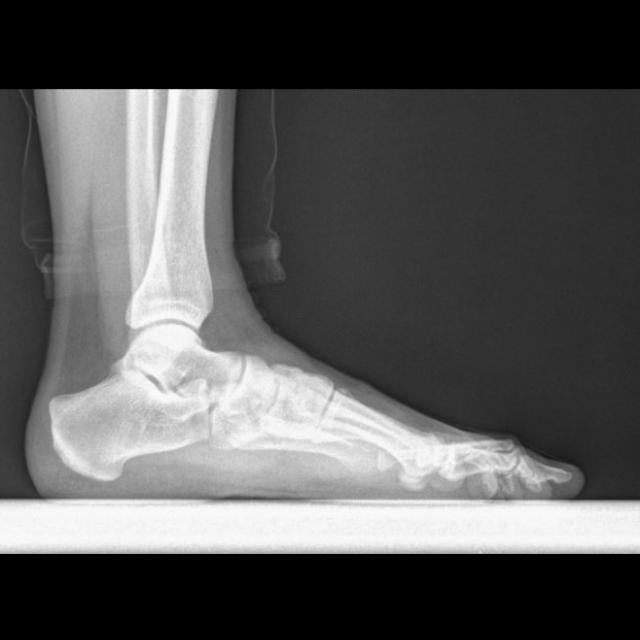a: (50, 367, 212, 480)
b: (217, 351, 275, 419)
c: (314, 392, 446, 479)
